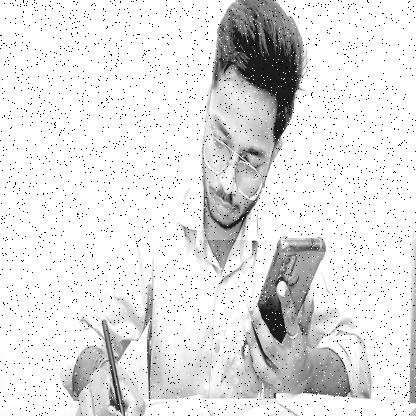Distracted: (197, 0, 306, 240)
